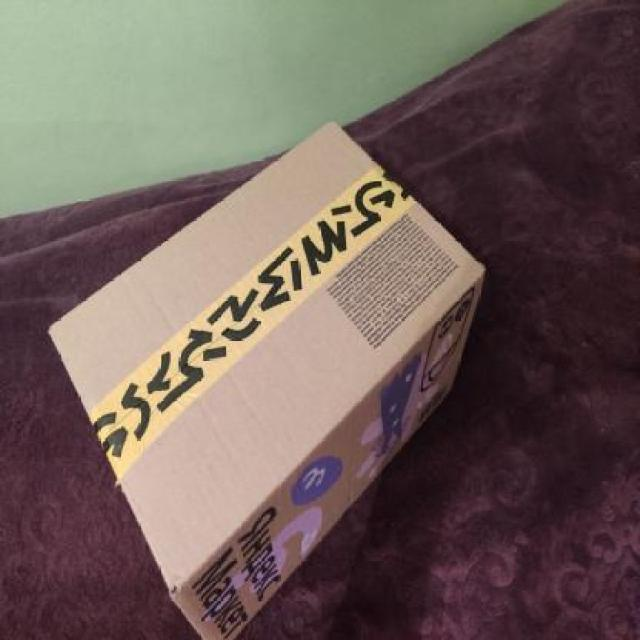box: (50, 121, 477, 640)
